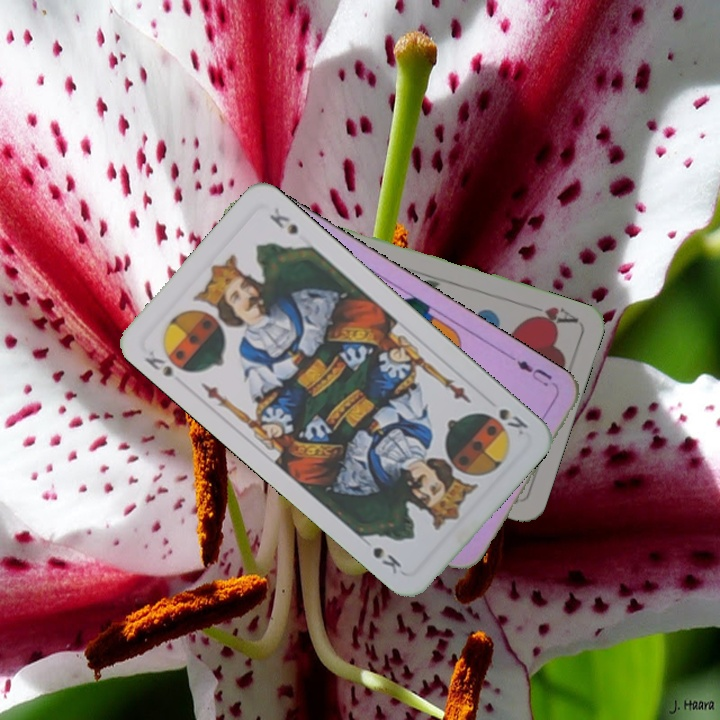EU: (507, 352, 555, 390)
HA: (522, 302, 581, 330)
SK: (495, 404, 531, 438), (140, 346, 175, 380)
